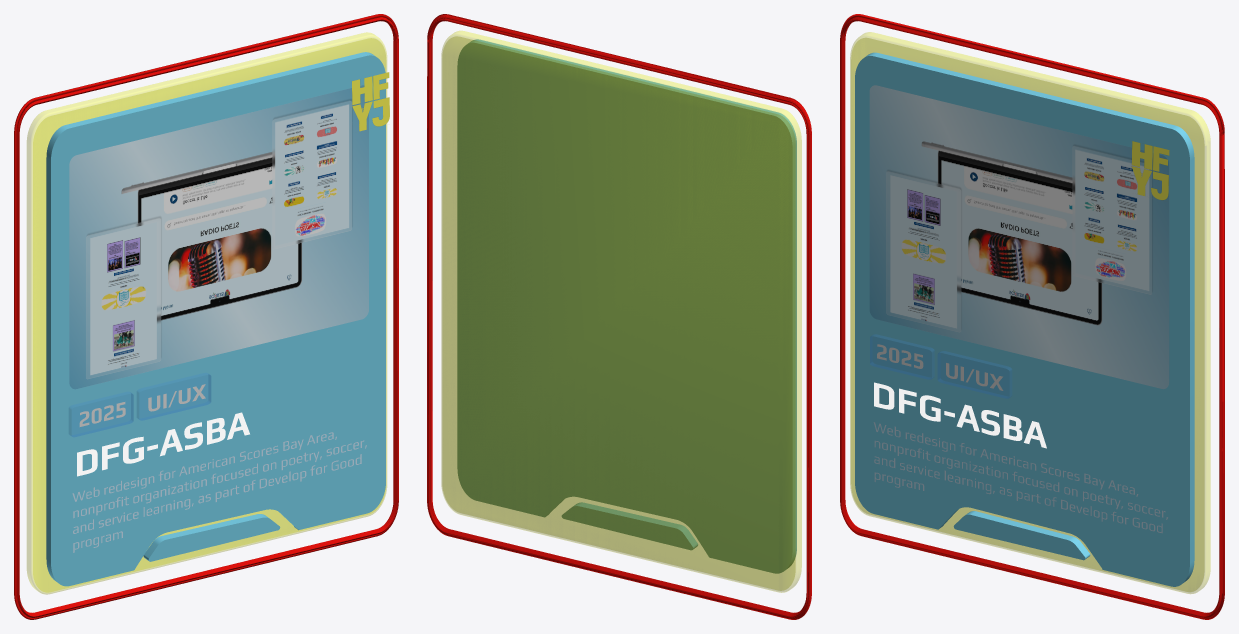
Rendered from asba.glb.
3 renders of one model, left to right at view 1: azimuth 30°, elevation 25°; view 2: azimuth 150°, elevation 25°; view 3: azimuth 330°, elevation 25°, orthographic.
Parts seen in each view (by area): view 1: Boolean, ra sm.jpg, Rectangle, Rectangle 6, Text.003, Shape, Text, Plane.001, Plane, Logo V1.png; view 2: Rectangle, Boolean, Rectangle 6, Shape; view 3: Boolean, ra sm.jpg, Rectangle, Rectangle 6, Text.003, Shape, Text, Plane.001, Plane, Logo V1.png.
Boxes of the visible parts, x1,y1,x2,y2 form: Boolean: [46, 52, 385, 586]; ra sm.jpg: [69, 85, 368, 389]; Rectangle: [27, 32, 386, 594]; Rectangle 6: [14, 14, 398, 619]; Text.003: [72, 432, 366, 552]; Shape: [143, 514, 280, 561]; Text: [77, 412, 249, 476]; Plane.001: [137, 373, 210, 420]; Plane: [69, 392, 133, 436]; Logo V1.png: [352, 72, 389, 131]; Rectangle: [441, 31, 801, 592]; Boolean: [457, 39, 796, 573]; Rectangle 6: [427, 14, 811, 619]; Shape: [561, 502, 697, 550]; Boolean: [855, 52, 1194, 586]; ra sm.jpg: [869, 85, 1169, 389]; Rectangle: [850, 32, 1210, 593]; Rectangle 6: [840, 14, 1224, 619]; Text.003: [873, 422, 1167, 533]; Shape: [953, 511, 1090, 560]; Text: [874, 382, 1046, 448]; Plane.001: [938, 351, 1011, 398]; Plane: [870, 335, 933, 379]; Logo V1.png: [1131, 141, 1169, 200].
Bounding box in the file's own units: 4.27 × 5.55 × 0.4878.
Materials: 8 (2 with a texture image).
